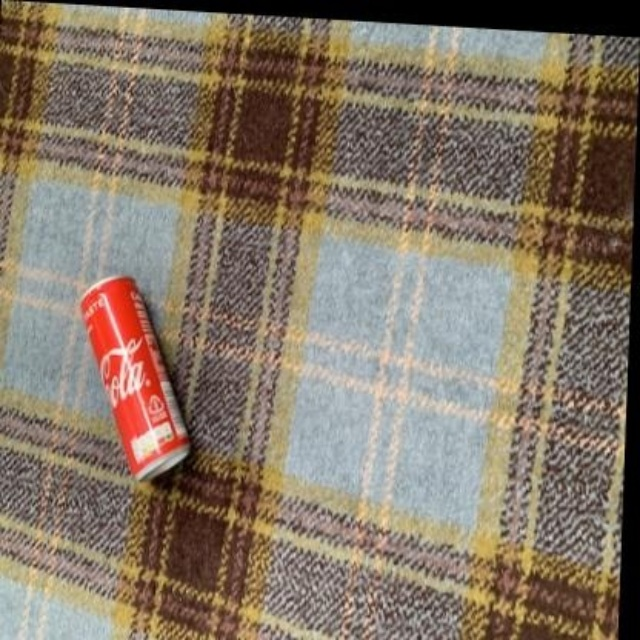trash: (82, 275, 188, 478)
